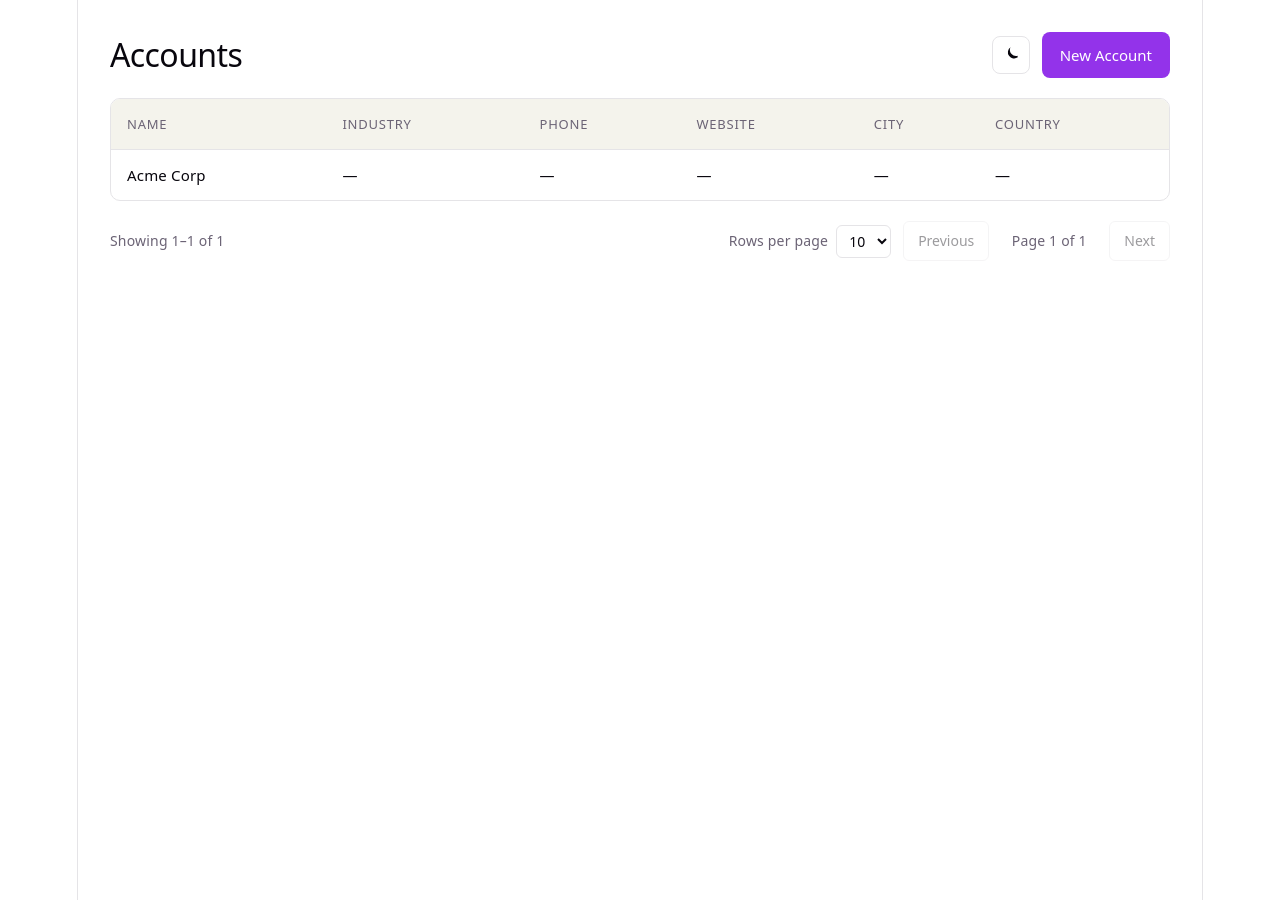
Test: App › creates a new account and refreshes the list
Check: the text "Acme Corp" is shown, box [111, 150, 326, 200]
Click the button "New Account". click: (1106, 55)
box: [1042, 32, 1170, 78]
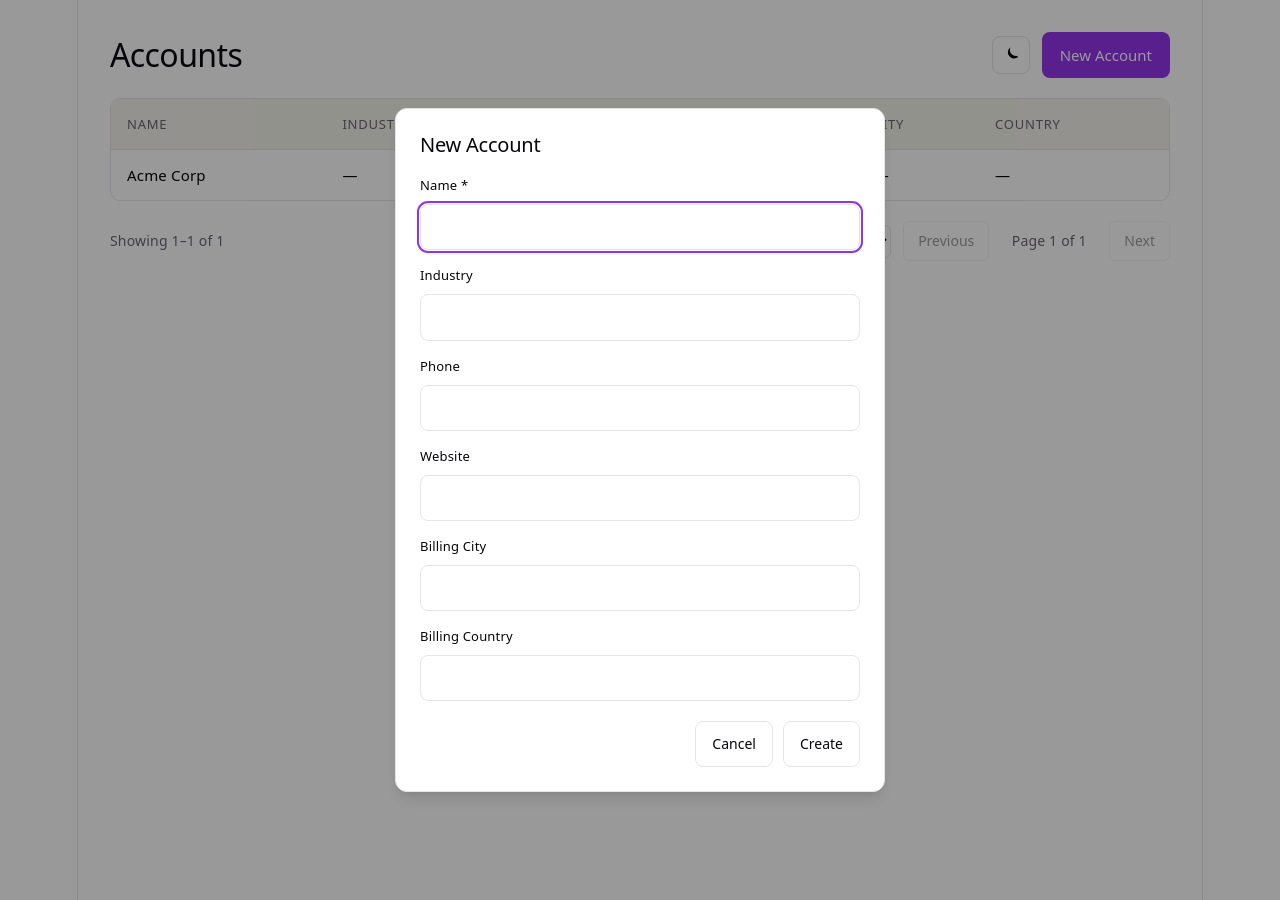
Type "New Co" into the field labelled "Name *". click: (640, 227)
box: [420, 204, 860, 250]
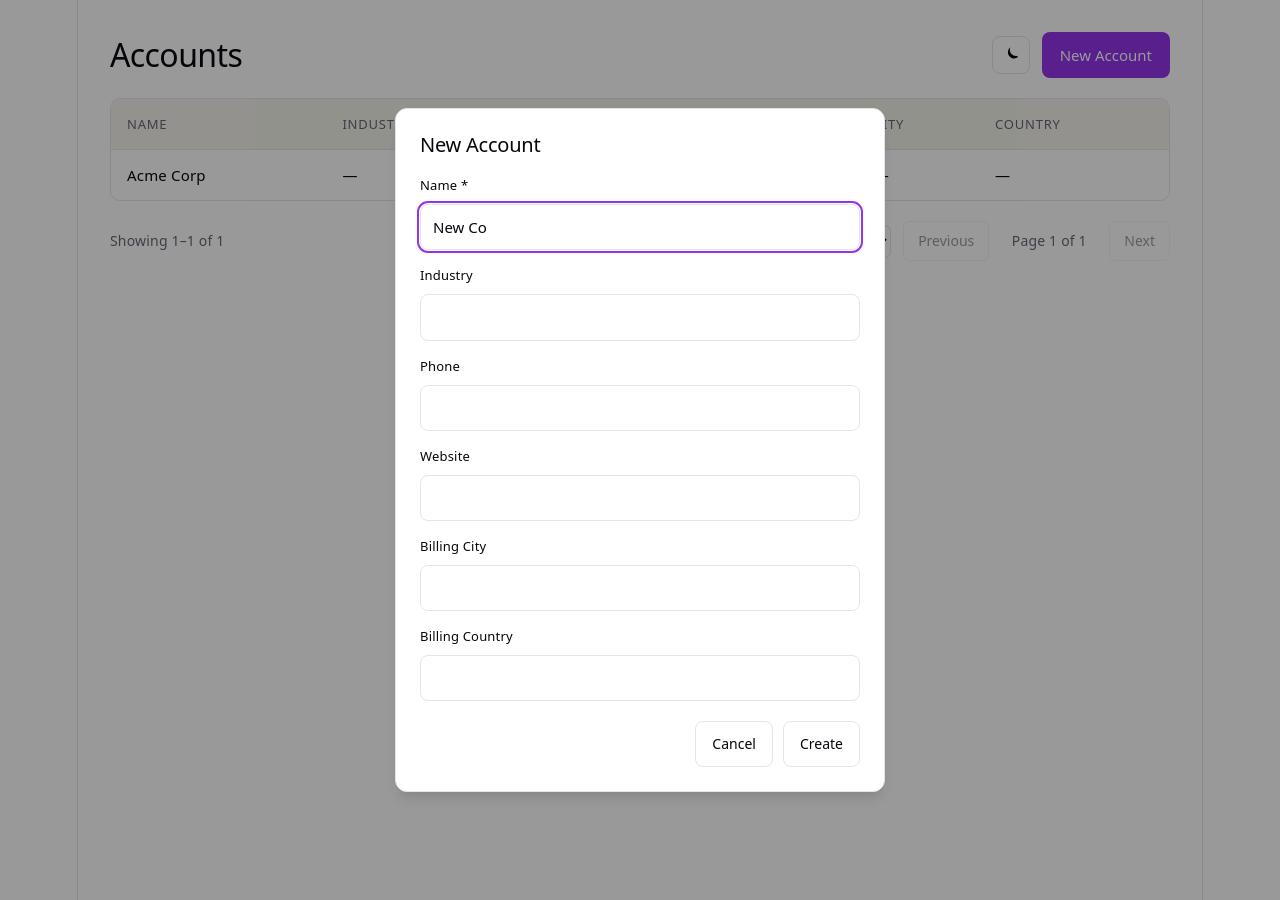
Click the button "Create". click: (821, 744)
box: [783, 721, 860, 767]
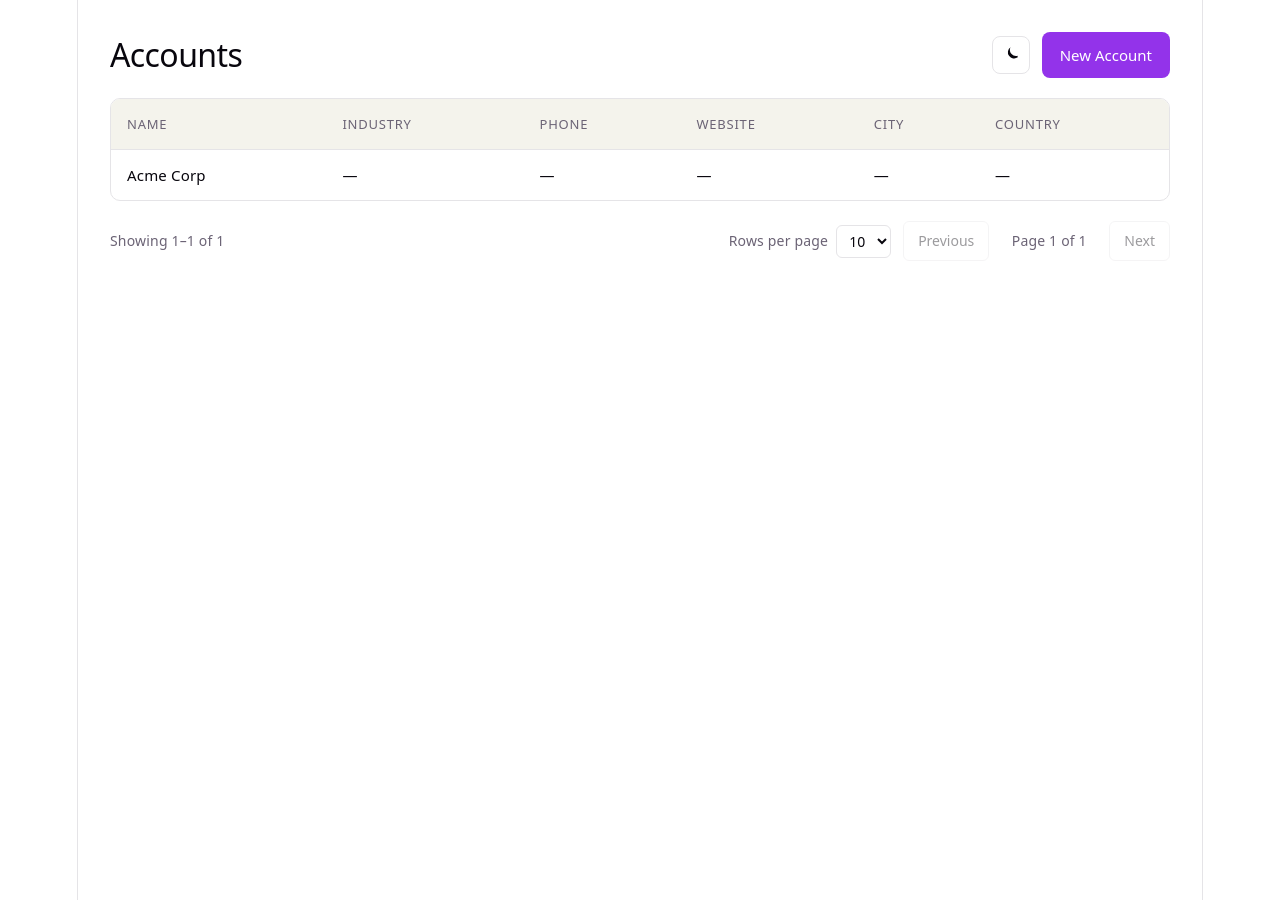
Check: the dialog is gone
